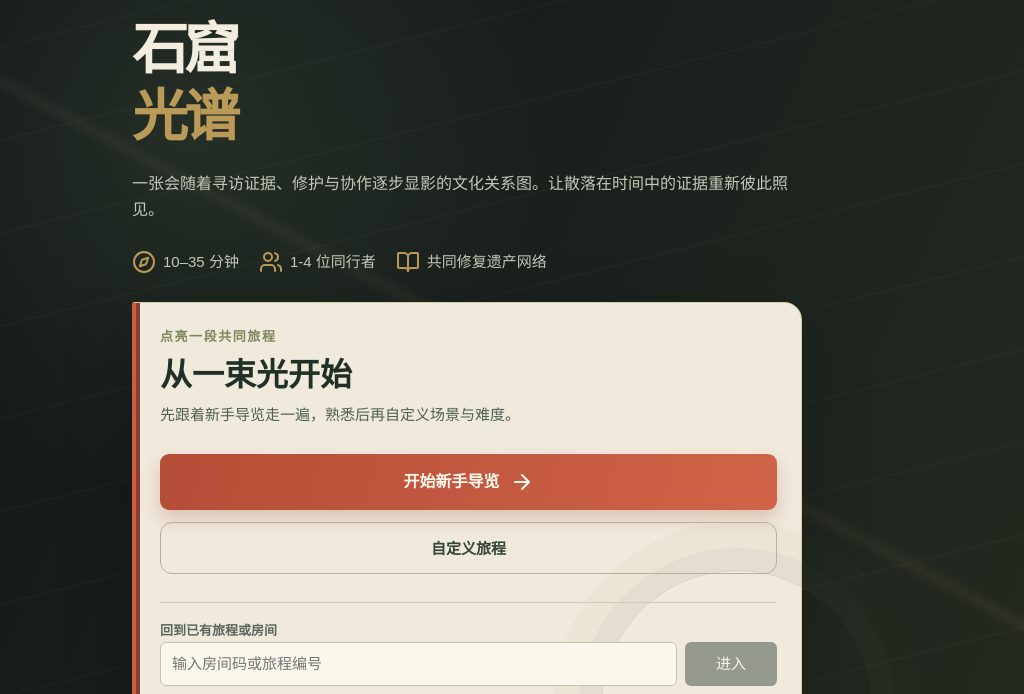
Test case: LandingPage › keeps the first visit focused and opens the journey form on demand
Check: the button "开始新手导览" is shown, box [160,454,777,510]
Click the button "自定义旅程" at point(468, 548), box [160,522,777,574]
(page scrolled)
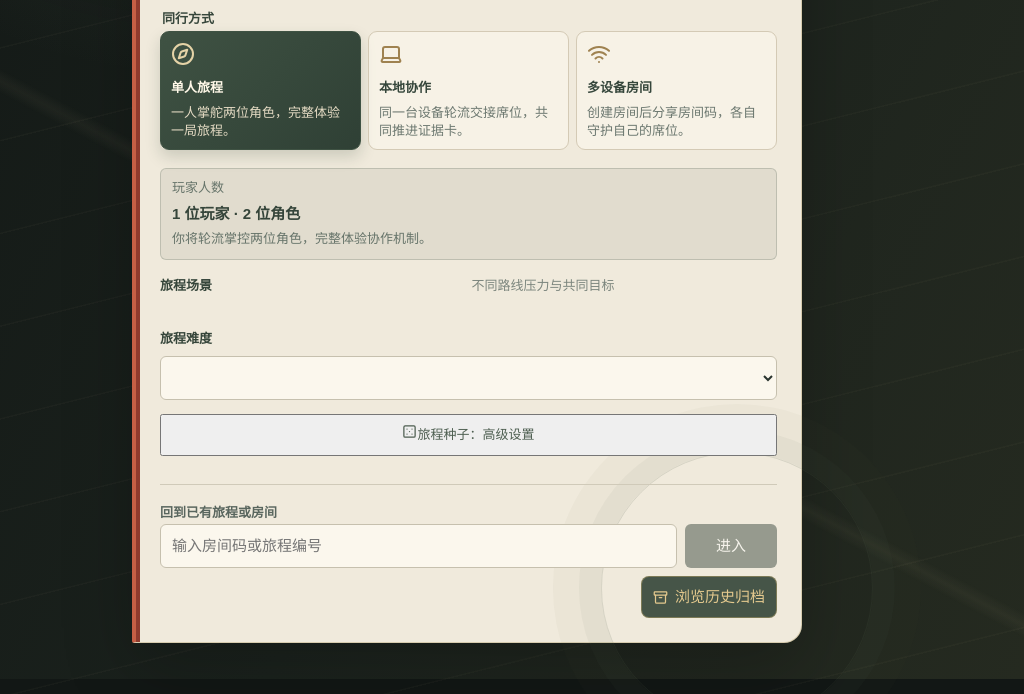
Check: the text "旅程场景" is shown, box [160,278,212,293]
Check: the dropdown labelled "旅程难度" is shown, box [160,356,777,400]
